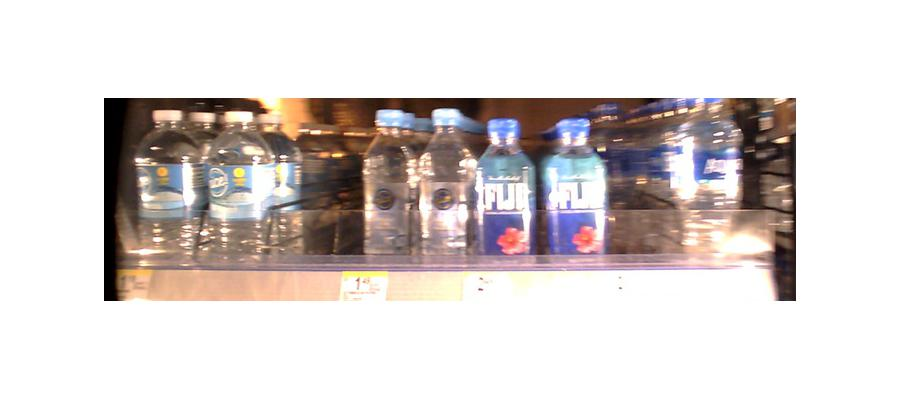bottle: (125, 105, 204, 271), (680, 97, 742, 257), (201, 114, 267, 263), (541, 120, 609, 258), (359, 106, 418, 257), (475, 115, 535, 261), (418, 106, 474, 255), (298, 126, 354, 263)
